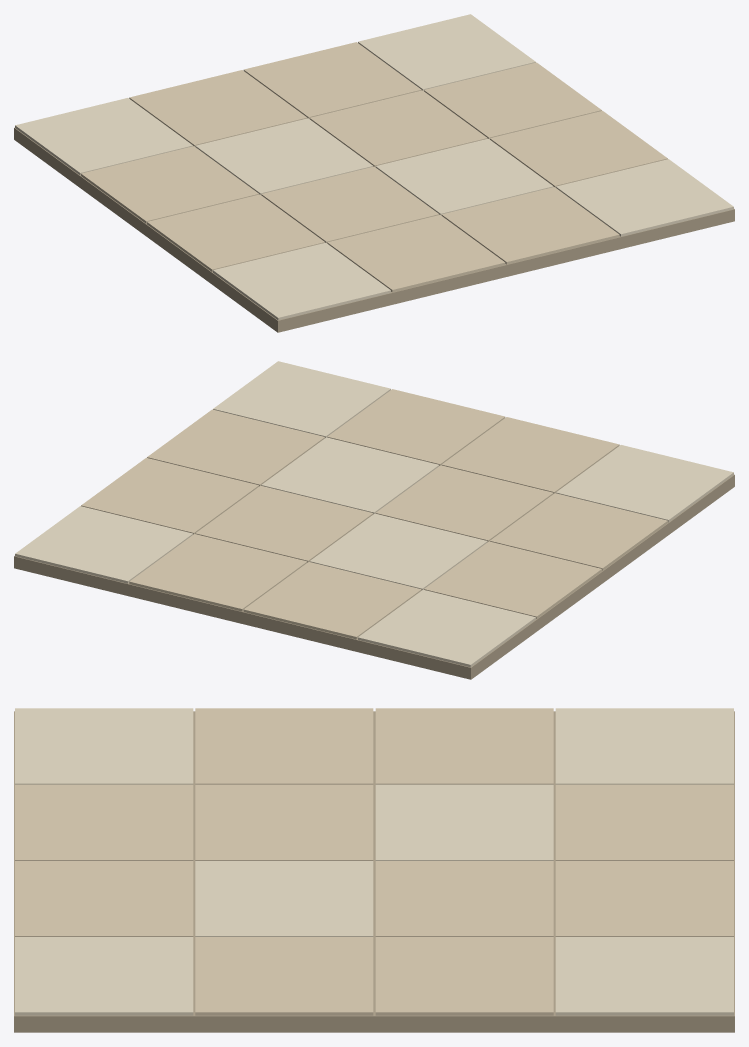
The model's file is lobby-limestone.glb.
3 renders of one model, top to bottom at view 1: azimuth 30°, elevation 25°; view 2: azimuth 150°, elevation 25°; view 3: azimuth 270°, elevation 25°, orthographic. The views are drawn at different scales.
Parts seen in each view (by area): view 1: lobby-limestone / Limestone.001, lobby-limestone / Limestone light.001, lobby-limestone / Grout.001; view 2: lobby-limestone / Limestone.001, lobby-limestone / Limestone light.001, lobby-limestone / Grout.001; view 3: lobby-limestone / Limestone.001, lobby-limestone / Limestone light.001, lobby-limestone / Grout.001.
Boxes of the visible parts, x1,y1,x2,y2 form: lobby-limestone / Limestone.001: (81, 42, 667, 292); lobby-limestone / Limestone light.001: (15, 14, 733, 320); lobby-limestone / Grout.001: (14, 127, 734, 332); lobby-limestone / Limestone.001: (81, 389, 667, 639); lobby-limestone / Limestone light.001: (15, 361, 733, 667); lobby-limestone / Grout.001: (14, 474, 734, 679); lobby-limestone / Limestone.001: (15, 708, 733, 1015); lobby-limestone / Limestone light.001: (15, 708, 733, 1015); lobby-limestone / Grout.001: (14, 711, 734, 1032).
Bounding box in the file's own units: 4 × 0.121 × 4.
